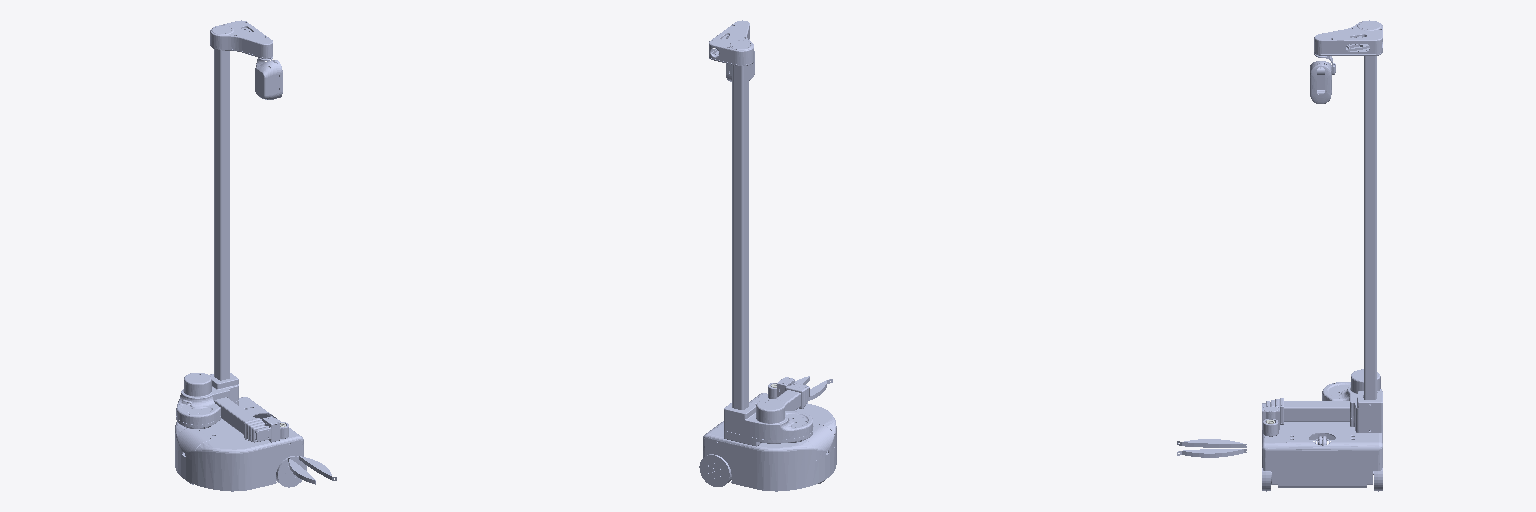
--- What the picture shows (computed from the rendered views, not written in the file) ---
Views: 3 orthographic renders of the robot side by side, from view 1: azimuth 30°, elevation 25°; view 2: azimuth 150°, elevation 25°; view 3: azimuth 270°, elevation 25°.
Robot: stretch_description — 45 links, 44 joints (7 revolute, 2 continuous, 5 prismatic, 30 fixed); root link base_link; default pose: all joints at 0.
Links seen in each view (by area): view 1: base_link, link_mast, link_lift, link_head, link_head_tilt, link_arm_l4, link_arm_l0, link_right_wheel; view 2: base_link, link_mast, link_lift, link_head, link_left_wheel; view 3: base_link, link_mast, link_lift, link_head, link_arm_l4, link_head_tilt.
Link boxes in pixels (left/top/right/bottom): base_link: left=175, top=397, right=303, bottom=491; link_mast: left=214, top=49, right=229, bottom=380; link_lift: left=176, top=373, right=238, bottom=428; link_head: left=210, top=20, right=272, bottom=58; link_head_tilt: left=255, top=60, right=282, bottom=99; link_arm_l4: left=214, top=397, right=261, bottom=439; link_arm_l0: left=255, top=416, right=288, bottom=442; link_right_wheel: left=276, top=456, right=306, bottom=487; base_link: left=703, top=393, right=836, bottom=491; link_mast: left=732, top=65, right=748, bottom=409; link_lift: left=724, top=399, right=812, bottom=446; link_head: left=709, top=20, right=753, bottom=65; link_left_wheel: left=699, top=454, right=731, bottom=486; base_link: left=1262, top=422, right=1382, bottom=487; link_mast: left=1364, top=37, right=1376, bottom=399; link_lift: left=1322, top=369, right=1382, bottom=432; link_head: left=1314, top=20, right=1382, bottom=55; link_arm_l4: left=1280, top=398, right=1349, bottom=424; link_head_tilt: left=1310, top=61, right=1331, bottom=103.
Size in the robot's own frame: 0.3303 by 0.5798 by 1.41 metres.
Meshes: 30 distinct files referenced, 22 mesh visuals loaded (22 binary STL); not drawn: 8 (reference not matched to a file when rendering).

URDF robot description (stretch_description):
<?xml version="1.0" ?>
<!-- =================================================================================== -->
<!-- |    This document was autogenerated by xacro from stretch_description_dex.xacro  | -->
<!-- |    EDITING THIS FILE BY HAND IS NOT RECOMMENDED                                 | -->
<!-- =================================================================================== -->
<robot name="stretch_description">
  <link name="link_wrist_yaw_bottom">
    <inertial>
      <origin rpy="0 0 0" xyz="-0.012839101377342 -0.0382787718640742 -0.0228400332263617"/>
      <mass value="0.0988906816399982"/>
      <inertia ixx="2.60067866573596E-05" ixy="-6.73176267521354E-06" ixz="-2.43476436723672E-06" iyy="5.99482946819923E-06" iyz="-3.39642410492401E-06" izz="2.56907114334732E-05"/>
    </inertial>
    <visual>
      <origin rpy="0 0 0" xyz="0 0 0"/>
      <geometry>
        <mesh filename="meshes/link_wrist_yaw_bottom.STL"/>
      </geometry>
      <material name="">
        <color rgba="0.792156862745098 0.819607843137255 0.933333333333333 1"/>
      </material>
    </visual>
    <collision>
      <origin rpy="0 0 0" xyz="0 0 0"/>
      <geometry>
        <mesh filename="meshes/link_wrist_yaw_bottom.STL"/>
      </geometry>
    </collision>
  </link>
  <joint name="joint_wrist_yaw_bottom" type="fixed">
    <origin rpy="-3.14159265358979 1.13367999021379E-14 1.57079632679489" xyz="0 0 0"/>
    <parent link="link_wrist_yaw"/>
    <child link="link_wrist_yaw_bottom"/>
    <axis xyz="0 0 0"/>
  </joint>
  <link name="link_wrist_pitch">
    <inertial>
      <origin rpy="0 0 0" xyz="-0.00310609611067142 -0.0150777141465843 0.0204734587925901"/>
      <mass value="0.0701267146295583"/>
      <inertia ixx="2.55965614980905E-06" ixy="-1.47551515167608E-06" ixz="-6.31436085977252E-08" iyy="3.43968637386282E-06" iyz="-4.17813567208843E-07" izz="4.53568668211393E-06"/>
    </inertial>
    <visual>
      <origin rpy="0 0 0" xyz="0 0 0"/>
      <geometry>
        <mesh filename="meshes/link_wrist_pitch.STL"/>
      </geometry>
      <material name="">
        <color rgba="0.792156862745098 0.819607843137255 0.933333333333333 1"/>
      </material>
    </visual>
    <collision>
      <origin rpy="0 0 0" xyz="0 0 0"/>
      <geometry>
        <mesh filename="meshes/link_wrist_pitch.STL"/>
      </geometry>
    </collision>
  </link>
  <joint name="joint_wrist_pitch" type="revolute">
    <origin rpy="1.5707963267949 -8.12895570882604E-15 -3.14159265358979" xyz="0 -0.0195500000000002 -0.0247499999999984"/>
    <parent link="link_wrist_yaw_bottom"/>
    <child link="link_wrist_pitch"/>
    <axis xyz="0 0 -1"/>
    <limit effort="100" lower="-1.57" upper="0.56" velocity="1.0"/>
  </joint>
  <link name="link_wrist_roll">
    <inertial>
      <origin rpy="0 0 0" xyz="9.63118473862323E-15 -6.38378239159465E-15 0.00768048802649798"/>
      <mass value="0.00585666394358811"/>
      <inertia ixx="2.55965614980905E-06" ixy="-1.47551515167608E-06" ixz="-6.31436085977252E-08" iyy="3.43968637386282E-06" iyz="-4.17813567208843E-07" izz="4.53568668211393E-06"/>
    </inertial>
    <visual>
      <origin rpy="0 0 0" xyz="0 0 0"/>
      <geometry>
        <mesh filename="meshes/link_wrist_roll.STL"/>
      </geometry>
      <material name="">
        <color rgba="0.792156862745098 0.819607843137255 0.933333333333333 1"/>
      </material>
    </visual>
    <collision>
      <origin rpy="0 0 0" xyz="0 0 0"/>
      <geometry>
        <mesh filename="meshes/link_wrist_roll.STL"/>
      </geometry>
    </collision>
  </link>
  <joint name="joint_wrist_roll" type="revolute">
    <origin rpy="3.14159265358979 1.5707963267949 0" xyz="-0.0188587444076125 -0.0239999999998942 0.01955"/>
    <parent link="link_wrist_pitch"/>
    <child link="link_wrist_roll"/>
    <axis xyz="0 0 1"/>
    <limit effort="100" lower="-3.14" upper="3.14" velocity="1.0"/>
  </joint>
  <link name="link_straight_gripper">
    <inertial>
      <origin rpy="0 0 0" xyz="0.00150764845432383 -0.00711581846201287 0.0399737901417758"/>
      <mass value="0.0496384234458284"/>
      <inertia ixx="5.61461154156397E-06" ixy="8.29518962984231E-07" ixz="-2.41382921888194E-06" iyy="1.11504692003467E-05" iyz="9.76174898123369E-07" izz="6.63803357903882E-06"/>
    </inertial>
    <visual>
      <origin rpy="0 0 0" xyz="0 0 0"/>
      <geometry>
        <mesh filename="meshes/link_straight_gripper.STL"/>
      </geometry>
      <material name="">
        <color rgba="0.792156862745098 0.819607843137255 0.933333333333333 1"/>
      </material>
    </visual>
    <collision>
      <origin rpy="0 0 0" xyz="0 0 0"/>
      <geometry>
        <mesh filename="meshes/link_straight_gripper.STL"/>
      </geometry>
    </collision>
  </link>
  <joint name="joint_straight_gripper" type="fixed">
    <origin rpy="3.54987407349455E-30 3.24021254484265E-20 -3.14159265358979" xyz="0 0 0.0155"/>
    <parent link="link_wrist_roll"/>
    <child link="link_straight_gripper"/>
    <axis xyz="0 0 0"/>
  </joint>
  <link name="link_gripper_finger_right">
    <inertial>
      <origin rpy="0 0 0" xyz="-0.094981 -0.0080152 -2.2204E-16"/>
      <mass value="0.047621"/>
      <inertia ixx="0.001" ixy="0" ixz="0" iyy="0.001" iyz="0" izz="0.001"/>
    </inertial>
    <visual>
      <origin rpy="0 0 0" xyz="0 0 0"/>
      <geometry>
        <mesh filename="meshes/link_gripper_finger_right.STL"/>
      </geometry>
      <material name="">
        <color rgba="0.79216 0.81961 0.93333 1"/>
      </material>
    </visual>
    <collision>
      <origin rpy="0 0 0" xyz="0 0 0"/>
      <geometry>
        <mesh filename="meshes/link_gripper_finger_right.STL"/>
      </geometry>
    </collision>
  </link>
  <joint name="joint_gripper_finger_right" type="revolute">
    <origin rpy="1.5708 1.5708 0" xyz="-0.018599 0.003 0.033689"/>
    <parent link="link_straight_gripper"/>
    <child link="link_gripper_finger_right"/>
    <axis xyz="0 0 1"/>
    <limit effort="100" lower="-0.6" upper="0.6" velocity="1.0"/>
  </joint>
  <link name="link_gripper_fingertip_right">
    <inertial>
      <origin rpy="0 0 0" xyz="2.83785970833783E-08 6.75131661687089E-09 0.00812578923434215"/>
      <mass value="0.00382160881468841"/>
      <inertia ixx="0.001" ixy="0" ixz="0" iyy="0.001" iyz="0" izz="0.001"/>
    </inertial>
    <visual>
      <origin rpy="0 0 0" xyz="0 0 0"/>
      <geometry>
        <mesh filename="meshes/link_gripper_fingertip_right.STL"/>
      </geometry>
      <material name="">
        <color rgba="0.250980392156863 0.250980392156863 0.250980392156863 1"/>
      </material>
    </visual>
    <collision>
      <origin rpy="0 0 0" xyz="0 0 0"/>
      <geometry>
        <mesh filename="meshes/link_gripper_fingertip_right.STL"/>
      </geometry>
    </collision>
  </link>
  <joint name="joint_gripper_fingertip_right" type="fixed">
    <origin rpy="-1.57079632679483 -3.43320051448326E-14 0.540456056432235" xyz="-0.190596948563868 -0.015 0"/>
    <parent link="link_gripper_finger_right"/>
    <child link="link_gripper_fingertip_right"/>
    <axis xyz="0 0 0"/>
  </joint>
  <link name="link_gripper_finger_left">
    <inertial>
      <origin rpy="0 0 0" xyz="0.0949811095686165 -0.00801522758203194 1.38777878078145E-15"/>
      <mass value="0.0476207785199479"/>
      <inertia ixx="0.001" ixy="0" ixz="0" iyy="0.001" iyz="0" izz="0.001"/>
    </inertial>
    <visual>
      <origin rpy="3.141592653589793 0 0" xyz="0 0 0"/>
      <geometry>
        <mesh filename="meshes/link_gripper_finger_left.STL"/>
      </geometry>
      <material name="">
        <color rgba="0.792156862745098 0.819607843137255 0.933333333333333 1"/>
      </material>
    </visual>
    <collision>
      <origin rpy="1.5707963267948966 0 0" xyz="0 0 0"/>
      <geometry>
        <mesh filename="meshes/link_gripper_finger_left.STL"/>
      </geometry>
    </collision>
  </link>
  <joint name="joint_gripper_finger_left" type="revolute">
    <origin rpy="1.5708 -1.5708 0" xyz="0.018599 0.003 0.033689"/>
    <parent link="link_straight_gripper"/>
    <child link="link_gripper_finger_left"/>
    <axis xyz="0 0 -1"/>
    <limit effort="100" lower="-0.6" upper="0.6" velocity="1.0"/>
  </joint>
  <link name="link_gripper_fingertip_left">
    <inertial>
      <origin rpy="0 0 0" xyz="-2.59496317767116E-08 -6.65612598371723E-09 0.00812579036862837"/>
      <mass value="0.00382160686584851"/>
      <inertia ixx="0.001" ixy="0" ixz="0" iyy="0.001" iyz="0" izz="0.001"/>
    </inertial>
    <visual>
      <origin rpy="0 0 0" xyz="0 0 0"/>
      <geometry>
        <mesh filename="meshes/link_gripper_fingertip_left.STL"/>
      </geometry>
      <material name="">
        <color rgba="0.250980392156863 0.250980392156863 0.250980392156863 1"/>
      </material>
    </visual>
    <collision>
      <origin rpy="0 0 0" xyz="0 0 0"/>
      <geometry>
        <mesh filename="meshes/link_gripper_fingertip_left.STL"/>
      </geometry>
    </collision>
  </link>
  <joint name="joint_gripper_fingertip_left" type="fixed">
    <origin rpy="1.57079632679496 4.51275387511463E-14 2.60113659715756" xyz="0.190596948563868 -0.015 0"/>
    <parent link="link_gripper_finger_left"/>
    <child link="link_gripper_fingertip_left"/>
    <axis xyz="0 0 0"/>
  </joint>
  <link name="link_grasp_center">
  </link>
  <joint name="joint_grasp_center" type="fixed">
    <origin rpy="-1.5707963267949 -1.5707963267949 0" xyz="0 0 0.23"/>
    <parent link="link_straight_gripper"/>
    <child link="link_grasp_center"/>
  </joint>
  <!--<xacro:include filename="stretch_gripper.xacro" /> -->
  <!--<xacro:include filename="stretch_gripper_with_puller.xacro" />-->
  <!--<xacro:include filename="stretch_dry_erase_marker.xacro" />-->
  <link name="base_link">
    <inertial>
      <origin rpy="0 0 0" xyz="-0.11587 0.0019426 0.093621"/>
      <mass value="1.1912"/>
      <inertia ixx="0.0034667" ixy="-5.0568E-06" ixz="0.00042861" iyy="0.0052744" iyz="-5.766E-05" izz="0.0047945"/>
    </inertial>
    <visual>
      <origin rpy="0 0 0" xyz="0 0 0"/>
      <geometry>
        <mesh filename="meshes/base_link.STL"/>
      </geometry>
      <material name="">
        <color rgba="0.79216 0.81961 0.93333 1"/>
      </material>
    </visual>
    <collision>
      <origin rpy="0 0 0" xyz="0 0 0"/>
      <geometry>
        <mesh filename="meshes/base_link.STL"/>
      </geometry>
    </collision>
  </link>
  <link name="link_right_wheel">
    <inertial>
      <origin rpy="0 0 0" xyz="1.1719E-11 2.0783E-11 0.037544"/>
      <mass value="0.0042721"/>
      <inertia ixx="0.001" ixy="0" ixz="0" iyy="0.001" iyz="0" izz="0.001"/>
    </inertial>
    <visual>
      <origin rpy="0 0 0" xyz="0 0 0"/>
      <geometry>
        <mesh filename="meshes/link_right_wheel.STL"/>
      </geometry>
      <material name="">
        <color rgba="0.79216 0.81961 0.93333 1"/>
      </material>
    </visual>
    <collision>
      <origin rpy="0 0 0" xyz="0 0 0"/>
      <geometry>
        <mesh filename="meshes/link_right_wheel.STL"/>
      </geometry>
    </collision>
  </link>
  <joint name="joint_right_wheel" type="continuous">
    <origin rpy="-1.5708 1.2717E-16 4.8006E-17" xyz="0 -0.17035 0.0508"/>
    <parent link="base_link"/>
    <child link="link_right_wheel"/>
    <axis xyz="0 0 1"/>
    <dynamics damping="21.75" friction="10.48" spring_reference="0" spring_stiffness="0"/>
  </joint>
  <link name="link_left_wheel">
    <inertial>
      <origin rpy="0 0 0" xyz="-2.0783E-11 -1.1719E-11 -0.037544"/>
      <mass value="0.0042721"/>
      <inertia ixx="0.001" ixy="0" ixz="0" iyy="0.001" iyz="0" izz="0.001"/>
    </inertial>
    <visual>
      <origin rpy="0 0 0" xyz="0 0 0"/>
      <geometry>
        <mesh filename="meshes/link_left_wheel.STL"/>
      </geometry>
      <material name="">
        <color rgba="0.79216 0.81961 0.93333 1"/>
      </material>
    </visual>
    <collision>
      <origin rpy="0 0 0" xyz="0 0 0"/>
      <geometry>
        <mesh filename="meshes/link_left_wheel.STL"/>
      </geometry>
    </collision>
  </link>
  <joint name="joint_left_wheel" type="continuous">
    <origin rpy="-1.5708 2.6317E-16 -8.2057E-19" xyz="0 0.17035 0.0508"/>
    <parent link="base_link"/>
    <child link="link_left_wheel"/>
    <axis xyz="0 0 1"/>
    <dynamics damping="21.75" friction="10.48" spring_reference="0" spring_stiffness="0"/>
  </joint>
  <link name="caster_link">
    <collision>
      <geometry>
        <sphere radius="0.032"/>
      </geometry>
      <origin rpy="0 0 0" xyz="0 0 0"/>
      <surface>
        <friction>
          <ode>
            <mu>0</mu>
            <mu2>0</mu2>
            <slip1>1.0</slip1>
            <slip2>1.0</slip2>
          </ode>
        </friction>
      </surface>
    </collision>
    <visual>
      <origin rpy="0 0 0" xyz="0 0 0"/>
      <geometry>
        <mesh filename="meshes/omni_wheel_m.STL"/>
      </geometry>
      <material name="">
        <color rgba="0.792156862745098 0.819607843137255 0.933333333333333 1"/>
      </material>
    </visual>
    <inertial>
      <mass value="0.01"/>
      <origin xyz="0 0 0"/>
      <inertia ixx="0.001" ixy="0" ixz="0" iyy="0.001" iyz="0" izz="0.001"/>
    </inertial>
  </link>
  <joint name="caster_joint" type="fixed">
    <parent link="base_link"/>
    <child link="caster_link"/>
    <origin rpy="-1.5707963267948966 0 0" xyz="-0.245 0.0 0.032"/>
    <axis xyz="0 0 1"/>
  </joint>
  <link name="link_mast">
    <inertial>
      <origin rpy="0 0 0" xyz="2.0817E-17 0.7075 -2.7756E-17"/>
      <mass value="1.8285"/>
      <inertia ixx="0.0709854511954588" ixy="-0.00433428742758457" ixz="-0.000186110788697573" iyy="0.000437922053342648" iyz="-0.00288788257713431" izz="0.071104808501661"/>
    </inertial>
    <visual>
      <origin rpy="0 0 0" xyz="0 0 0"/>
      <geometry>
        <mesh filename="meshes/link_mast.STL"/>
      </geometry>
      <material name="">
        <color rgba="0.79216 0.81961 0.93333 1"/>
      </material>
    </visual>
    <collision>
      <origin rpy="0 0 0" xyz="0 0 0"/>
      <geometry>
        <mesh filename="meshes/link_mast.STL"/>
      </geometry>
    </collision>
  </link>
  <joint name="joint_mast" type="fixed">
    <origin rpy="1.5708 0 4.8006E-17" xyz="-0.067 0.135 0.0284"/>
    <parent link="base_link"/>
    <child link="link_mast"/>
    <axis xyz="0 0 0"/>
  </joint>
  <link name="link_lift">
    <inertial>
      <origin rpy="0 0 0" xyz="-0.031727 0.038403 0.013361"/>
      <mass value="0.27218"/>
      <inertia ixx="0.00052571" ixy="0.00014899" ixz="-1.9258E-05" iyy="0.00030679" iyz="-6.2451E-06" izz="0.00037324"/>
    </inertial>
    <visual>
      <origin rpy="0 0 0" xyz="0 0 0"/>
      <geometry>
        <mesh filename="meshes/link_lift.STL"/>
      </geometry>
      <material name="">
        <color rgba="0.79216 0.81961 0.93333 1"/>
      </material>
    </visual>
    <collision>
      <origin rpy="0 0 0" xyz="0 0 0"/>
      <geometry>
        <mesh filename="meshes/link_lift.STL"/>
      </geometry>
    </collision>
  </link>
  <joint name="joint_lift" type="prismatic">
    <origin rpy="-1.5708 1.5708 0" xyz="-0.037385 0.1666 0"/>
    <parent link="link_mast"/>
    <child link="link_lift"/>
    <axis xyz="0 0 1"/>
    <!-- for now: hand copied range_m: from lift: from ~/repos/stretch_fleet/stretch-re1-1001/stretch_re1_factory_params.yaml -->
    <!--<limit effort="100" lower="0.0" upper="1.095" velocity="1.0"/>-->
    <!-- copied value did not reach the top of mesh model with GUI sliders and RViz -->
    <limit effort="100" lower="0.0" upper="1.1" velocity="1.0"/>
  </joint>
  <link name="link_arm_l4">
    <inertial>
      <origin rpy="0 0 0" xyz="-1.0146E-06 -1.9719E-05 -0.094738"/>
      <mass value="0.068095"/>
      <inertia ixx="0.0001256" ixy="-5.6914E-12" ixz="6.0647E-09" iyy="0.0001256" iyz="1.1787E-07" izz="1.1091E-10"/>
    </inertial>
    <visual>
      <origin rpy="0 0 0" xyz="0 0 0"/>
      <geometry>
        <mesh filename="meshes/link_arm_l4.STL"/>
      </geometry>
      <material name="">
        <color rgba="0.79216 0.81961 0.93333 1"/>
      </material>
    </visual>
    <collision>
      <origin rpy="0 0 0" xyz="0 0 0"/>
      <geometry>
        <mesh filename="meshes/link_arm_l4.STL"/>
      </geometry>
    </collision>
  </link>
  <joint name="joint_arm_l4" type="fixed">
    <origin rpy="1.5708 2.4721E-15 -1.5708" xyz="-0.2547 0 0"/>
    <parent link="link_lift"/>
    <child link="link_arm_l4"/>
    <axis xyz="0 0 0"/>
  </joint>
  <link name="link_arm_l3">
    <inertial>
      <origin rpy="0 0 0" xyz="-5.13853606326845E-07 -1.99844969271112E-05 -0.0971104963726614"/>
      <mass value="0.0628927381893134"/>
      <inertia ixx="0.001" ixy="0" ixz="0" iyy="0.001" iyz="0" izz="0.001"/>
    </inertial>
    <visual>
      <origin rpy="0 0 0" xyz="0 0 0"/>
      <geometry>
        <mesh filename="meshes/link_arm_l3.STL"/>
      </geometry>
      <material name="">
        <color rgba="0.792156862745098 0.819607843137255 0.933333333333333 1"/>
      </material>
    </visual>
    <collision>
      <origin rpy="0 0 0" xyz="0 0 0"/>
      <geometry>
        <mesh filename="meshes/link_arm_l3.STL"/>
      </geometry>
    </collision>
  </link>
  <joint name="joint_arm_l3" type="prismatic">
    <origin rpy="7.68831233799385E-30 2.36716479416092E-30 2.29652732251143E-17" xyz="0 0 0.013"/>
    <parent link="link_arm_l4"/>
    <child link="link_arm_l3"/>
    <axis xyz="0 0 1"/>
    <!-- 0.13 = 0.52/4-->
    <limit effort="100" lower="0.0" upper="0.13" velocity="1.0"/>
  </joint>
  <link name="link_arm_l2">
    <inertial>
      <origin rpy="0 0 0" xyz="-5.17421949435687E-07 -2.02045301450349E-05 -0.0968815475684904"/>
      <mass value="0.0571386353275368"/>
      <inertia ixx="0.001" ixy="0" ixz="0" iyy="0.001" iyz="0" izz="0.001"/>
    </inertial>
    <visual>
      <origin rpy="0 0 0" xyz="0 0 0"/>
      <geometry>
        <mesh filename="meshes/link_arm_l2.STL"/>
      </geometry>
      <material name="">
        <color rgba="0.792156862745098 0.819607843137255 0.933333333333333 1"/>
      </material>
    </visual>
    <collision>
      <origin rpy="0 0 0" xyz="0 0 0"/>
      <geometry>
        <mesh filename="meshes/link_arm_l2.STL"/>
      </geometry>
    </collision>
  </link>
  <joint name="joint_arm_l2" type="prismatic">
    <origin rpy="0 1.57655765344625E-30 -1.66533453693773E-16" xyz="0 0 0.013"/>
    <parent link="link_arm_l3"/>
    <child link="link_arm_l2"/>
    <axis xyz="0 0 1"/>
    <!-- 0.13 = 0.52/4-->
    <limit effort="100" lower="0.0" upper="0.13" velocity="1.0"/>
  </joint>
  <link name="link_arm_l1">
    <inertial>
      <origin rpy="0 0 0" xyz="-5.257E-07 -2.0482E-05 -0.096543"/>
      <mass value="0.051382"/>
      <inertia ixx="0.001" ixy="0" ixz="0" iyy="0.001" iyz="0" izz="0.001"/>
    </inertial>
    <visual>
      <origin rpy="0 0 0" xyz="0 0 0"/>
      <geometry>
        <mesh filename="meshes/link_arm_l1.STL"/>
      </geometry>
      <material name="">
        <color rgba="0.79216 0.81961 0.93333 1"/>
      </material>
    </visual>
    <collision>
      <origin rpy="0 0 0" xyz="0 0 0"/>
      <geometry>
        <mesh filename="meshes/link_arm_l1.STL"/>
      </geometry>
    </collision>
  </link>
  <joint name="joint_arm_l1" type="prismatic">
    <origin rpy="-7.63746778746202E-30 -7.88860905221012E-31 1.11022302462516E-16" xyz="0 0 0.0129999999999981"/>
    <parent link="link_arm_l2"/>
    <child link="link_arm_l1"/>
    <axis xyz="0 0 1"/>
    <!-- 0.13 = 0.52/4-->
    <limit effort="100" lower="0.0" upper="0.13" velocity="1.0"/>
  </joint>
  <link name="link_arm_l0">
    <inertial>
      <origin rpy="0 0 0" xyz="0.0270582141286185 -0.00189876414654466 -0.0377809018481181"/>
      <mass value="0.085003260946398"/>
      <inertia ixx="0.001" ixy="0" ixz="0" iyy="0.001" iyz="0" izz="0.001"/>
    </inertial>
    <visual>
      <origin rpy="0 0 0" xyz="0 0 0"/>
      <geometry>
        <mesh filename="meshes/link_arm_l0.STL"/>
      </geometry>
      <material name="">
        <color rgba="0.792156862745098 0.819607843137255 0.933333333333333 1"/>
      </material>
    </visual>
    <collision>
      <origin rpy="0 0 0" xyz="0 0 0"/>
      <geometry>
        <mesh filename="meshes/link_arm_l0.STL"/>
      </geometry>
    </collision>
  </link>
  <joint name="joint_arm_l0" type="prismatic">
    <origin rpy="7.63746778746202E-30 -3.80121128864402E-15 2.62707547767438E-15" xyz="0 0 -0.0137499999991968"/>
    <parent link="link_arm_l1"/>
    <child link="link_arm_l0"/>
    <axis xyz="0 0 1"/>
    <!-- 0.13 = 0.52/4-->
    <limit effort="100" lower="0.0" upper="0.13" velocity="1.0"/>
  </joint>
  <link name="link_wrist_yaw">
    <inertial>
      <origin rpy="0 0 0" xyz="2.20122392535771E-11 2.9317167880849E-05 -0.018966592644729"/>
      <mass value="0.0404746907425003"/>
      <inertia ixx="0.001" ixy="0" ixz="0" iyy="0.001" iyz="0" izz="0.001"/>
    </inertial>
    <visual>
      <origin rpy="0 0 0" xyz="0 0 0"/>
      <geometry>
        <mesh filename="meshes/link_wrist_yaw.STL"/>
      </geometry>
      <material name="">
        <color rgba="0.898039215686275 0.917647058823529 0.929411764705882 1"/>
      </material>
    </visual>
    <collision>
      <origin rpy="0 0 0" xyz="0 0 0"/>
      <geometry>
        <mesh filename="meshes/link_wrist_yaw.STL"/>
      </geometry>
    </collision>
  </link>
  <joint name="joint_wrist_yaw" type="revolute">
    <origin rpy="1.5708 4.2595E-14 2.6415E-15" xyz="0.0830000000000654 -0.0307500000000129 0"/>
    <parent link="link_arm_l0"/>
    <child link="link_wrist_yaw"/>
    <axis xyz="0 0 -1"/>
    <!--
      stowed to front ~225 deg: 3.15159 x 1.25 = 3.9395
      using 4.0
      stowed to back ~100 deg:  100 / 180 x 3.14159 = 1.7453
      using -1.75
    -->
    <limit effort="100" lower="-1.75" upper="4.0" velocity="1.0"/>
  </joint>
  <link name="link_head">
    <inertial>
      <origin rpy="0 0 0" xyz="0.0406850995527703 0.0396956343318414 0.0226500246461012"/>
      <mass value="0.133027236718691"/>
      <inertia ixx="0.001" ixy="0" ixz="0" iyy="0.001" iyz="0" izz="0.001"/>
    </inertial>
    <visual>
      <origin rpy="0 0 0" xyz="0 0 0"/>
      <geometry>
        <mesh filename="meshes/link_head.STL"/>
      </geometry>
      <material name="">
        <color rgba="0.792156862745098 0.819607843137255 0.933333333333333 1"/>
      </material>
    </visual>
    <collision>
      <origin rpy="0 0 0" xyz="0 0 0"/>
      <geometry>
        <mesh filename="meshes/link_head.STL"/>
      </geometry>
    </collision>
  </link>
  <joint name="joint_head" type="fixed">
    <origin rpy="1.5707963267949 -1.5707963267949 3.1416" xyz="0 1.33 0"/>
    <parent link="link_mast"/>
    <child link="link_head"/>
    <axis xyz="0 0 0"/>
  </joint>
  <link name="link_head_pan">
    <inertial>
      <origin rpy="0 0 0" xyz="-0.000326562615178591 0.00850012613776489 0.000130487222982367"/>
      <mass value="0.0273764496535409"/>
      <inertia ixx="0.001" ixy="0" ixz="0" iyy="0.001" iyz="0" izz="0.001"/>
    </inertial>
    <visual>
      <origin rpy="0 0 0" xyz="0 0 0"/>
      <geometry>
        <mesh filename="meshes/link_head_pan.STL"/>
      </geometry>
      <material name="">
        <color rgba="0.792156862745098 0.819607843137255 0.933333333333333 1"/>
      </material>
    </visual>
    <collision>
      <origin rpy="0 0 0" xyz="0 0 0"/>
      <geometry>
        <mesh filename="meshes/link_head_pan.STL"/>
      </geometry>
    </collision>
  </link>
  <joint name="joint_head_pan" type="revolute">
    <origin rpy="0 0 1.5707963267949" xyz="0.135 0.0731000000000001 -0.00319621125547975"/>
    <parent link="link_head"/>
    <child link="link_head_pan"/>
    <axis xyz="0 0 1"/>
    <!-- unconstrained range for now -->
    <limit effort="100" lower="-3.9" upper="1.5" velocity="1.0"/>
  </joint>
  <link name="link_head_tilt">
    <inertial>
      <origin rpy="0 0 0" xyz="0.00704566394917504 -0.0212256210929691 0.0302058990060359"/>
      <mass value="0.090217113313934"/>
      <inertia ixx="0.001" ixy="0" ixz="0" iyy="0.001" iyz="0" izz="0.001"/>
    </inertial>
    <visual>
      <origin rpy="0 0 0" xyz="0 0 0"/>
      <geometry>
        <mesh filename="meshes/link_head_tilt.STL"/>
      </geometry>
      <material name="">
        <color rgba="0.792156862745098 0.819607843137255 0.933333333333333 1"/>
      </material>
    </visual>
    <collision>
      <origin rpy="0 0 0" xyz="0 0 0"/>
      <geometry>
        <mesh filename="meshes/link_head_tilt.STL"/>
      </geometry>
    </collision>
  </link>
  <joint name="joint_head_tilt" type="revolute">
    <origin rpy="1.5707963267949 3.36459255518345E-15 -8.42914893687103E-17" xyz="-0.00130000001785262 0.0277624999926072 -0.0533107920897029"/>
    <parent link="link_head_pan"/>
    <child link="link_head_tilt"/>
    <axis xyz="0 0 1"/>
    <!-- unconstrained range for now -->
    <limit effort="100" lower="-1.53" upper="0.79" velocity="1.0"/>
  </joint>
  <link name="link_aruco_right_base">
    <inertial>
      <origin rpy="0 0 0" xyz="1.3878E-17 0 -0.000125"/>
      <mass value="3.59999999990368E-06"/>
      <inertia ixx="0" ixy="0" ixz="0" iyy="0" iyz="0" izz="0"/>
    </inertial>
    <visual>
      <origin rpy="0 0 0" xyz="0 0 0"/>
      <geometry>
        <mesh filename="meshes/link_aruco_right_base.STL"/>
      </geometry>
      <material name="">
        <color rgba="0.792156862745098 0.819607843137255 0.933333333333333 1"/>
      </material>
    </visual>
    <collision>
      <origin rpy="0 0 0" xyz="0 0 0"/>
      <geometry>
        <mesh filename="meshes/link_aruco_right_base.STL"/>
      </geometry>
    </collision>
  </link>
  <joint name="joint_aruco_right_base" type="fixed">
    <origin rpy="0 0 -1.5707963267949" xyz="-0.0015028 -0.1304972 0.1597482"/>
    <parent link="base_link"/>
    <child link="link_aruco_right_base"/>
    <axis xyz="0 0 0"/>
  </joint>
  <link name="link_aruco_left_base">
    <inertial>
      <origin rpy="0 0 0" xyz="2.7756E-17 0 -0.000125"/>
      <mass value="3.59999999990368E-06"/>
      <inertia ixx="0" ixy="0" ixz="0" iyy="0" iyz="0" izz="0"/>
    </inertial>
    <visual>
      <origin rpy="0 0 0" xyz="0 0 0"/>
      <geometry>
        <mesh filename="meshes/link_aruco_left_base.STL"/>
      </geometry>
      <material name="">
        <color rgba="0.792156862745098 0.819607843137255 0.933333333333333 1"/>
      </material>
    </visual>
    <collision>
      <origin rpy="0 0 0" xyz="0 0 0"/>
      <geometry>
        <mesh filename="meshes/link_aruco_left_base.STL"/>
      </geometry>
    </collision>
  </link>
  <joint name="joint_aruco_left_base" type="fixed">
    <origin rpy="0 0 -1.5707963267949" xyz="-0.00500000000000014 0.1304972 0.1597482"/>
    <parent link="base_link"/>
    <child link="link_aruco_left_base"/>
    <axis xyz="0 0 0"/>
  </joint>
  <link name="link_aruco_shoulder">
    <inertial>
      <origin rpy="0 0 0" xyz="-2.77555756156289E-17 2.56739074444567E-16 -0.000125000000000042"/>
      <mass value="0"/>
      <inertia ixx="0" ixy="0" ixz="0" iyy="0" iyz="0" izz="0"/>
    </inertial>
    <visual>
      <origin rpy="0 0 0" xyz="0 0 0"/>
      <geometry>
        <mesh filename="meshes/link_aruco_shoulder.STL"/>
      </geometry>
      <material name="">
        <color rgba="0.792156862745098 0.819607843137255 0.933333333333333 1"/>
      </material>
    </visual>
    <collision>
      <origin rpy="0 0 0" xyz="0 0 0"/>
      <geometry>
        <mesh filename="meshes/link_aruco_shoulder.STL"/>
      </geometry>
    </collision>
  </link>
  <joint name="joint_aruco_shoulder" type="fixed">
    <origin rpy="-1.53998860117704E-29 3.55962409571165E-15 0.0" xyz="-0.0133768876375287 0.0558540528812078 0.0861368272417975"/>
    <parent link="link_lift"/>
    <child link="link_aruco_shoulder"/>
    <axis xyz="0 0 0"/>
  </joint>
  <link name="link_aruco_top_wrist">
    <inertial>
      <origin rpy="0 0 0" xyz="-1.3531E-15 -3.4972E-15 -0.000125"/>
      <mass value="0"/>
      <inertia ixx="0" ixy="0" ixz="0" iyy="0" iyz="0" izz="0"/>
    </inertial>
    <visual>
      <origin rpy="0 0 0" xyz="0 0 0"/>
      <geometry>
        <mesh filename="meshes/link_aruco_top_wrist.STL"/>
      </geometry>
      <material name="">
        <color rgba="0.792156862745098 0.819607843137255 0.933333333333333 1"/>
      </material>
    </visual>
    <collision>
      <origin rpy="0 0 0" xyz="0 0 0"/>
      <geometry>
        <mesh filename="meshes/link_aruco_top_wrist.STL"/>
      </geometry>
    </collision>
  </link>
  <joint name="joint_aruco_top_wrist" type="fixed">
    <origin rpy="1.5707963267949 -8.03728587323464E-15 3.14159265358979" xyz="0.0472500000000019 0.0292850000000015 0"/>
    <parent link="link_arm_l0"/>
    <child link="link_aruco_top_wrist"/>
    <axis xyz="0 0 0"/>
  </joint>
  <link name="link_aruco_inner_wrist">
    <inertial>
      <origin rpy="0 0 0" xyz="8.32667268468867E-17 1.77635683940025E-15 -0.000125000000000264"/>
      <mass value="0"/>
      <inertia ixx="0" ixy="0" ixz="0" iyy="0" iyz="0" izz="0"/>
    </inertial>
    <visual>
      <origin rpy="0 0 0" xyz="0 0 0"/>
      <geometry>
        <mesh filename="meshes/link_aruco_inner_wrist.STL"/>
      </geometry>
      <material name="">
        <color rgba="0.792156862745098 0.819607843137255 0.933333333333333 1"/>
      </material>
    </visual>
    <collision>
      <origin rpy="0 0 0" xyz="0 0 0"/>
      <geometry>
        <mesh filename="meshes/link_aruco_inner_wrist.STL"/>
      </geometry>
    </collision>
  </link>
  <joint name="joint_aruco_inner_wrist" type="fixed">
    <origin rpy="3.14159265358979 4.23377442363088E-14 3.14159265358979" xyz="0.0472499999999947 -0.0119000000000034 -0.0272499999991938"/>
    <parent link="link_arm_l0"/>
    <child link="link_aruco_inner_wrist"/>
    <axis xyz="0 0 0"/>
  </joint>
  <material name="aluminum">
    <color rgba="0.5 0.5 0.5 1"/>
  </material>
  <material name="plastic">
    <color rgba="0.1 0.1 0.1 1"/>
  </material>
  <!-- camera body, with origin at bottom screw mount -->
  <joint name="camera_joint" type="fixed">
    <origin rpy="0.0 0.0 0.0" xyz="0.03 -0.0122 0.0182"/>
    <parent link="link_head_tilt"/>
    <child link="camera_bottom_screw_frame"/>
  </joint>
  <link name="camera_bottom_screw_frame"/>
  <joint name="camera_link_joint" type="fixed">
    <origin rpy="0 0 0" xyz="0.010600000000000002 0.0175 0.0125"/>
    <parent link="camera_bottom_screw_frame"/>
    <child link="camera_link"/>
  </joint>
  <link name="camera_link">
    <collision>
      <origin rpy="0 0 0" xyz="0 -0.0175 0"/>
      <geometry>
        <box size="0.02505 0.09 0.025"/>
      </geometry>
    </collision>
    <inertial>
      <!-- The following are not reliable values, and should not be used for modeling -->
      <mass value="0.072"/>
      <origin xyz="0 0 0"/>
      <inertia ixx="0.003881243" ixy="0.0" ixz="0.0" iyy="0.000498940" iyz="0.0" izz="0.003879257"/>
    </inertial>
  </link>
  <!-- camera depth joints and links -->
  <joint name="camera_depth_joint" type="fixed">
    <origin rpy="0 0 0" xyz="0 0 0"/>
    <parent link="camera_link"/>
    <child link="camera_depth_frame"/>
  </joint>
  <link name="camera_depth_frame"/>
  <joint name="camera_depth_optical_joint" type="fixed">
    <origin rpy="-1.5707963267948966 0 -1.5707963267948966" xyz="0 0 0"/>
    <parent link="camera_depth_frame"/>
    <child link="camera_depth_optical_frame"/>
  </joint>
  <link name="camera_depth_optical_frame"/>
  <!-- camera left IR joints and links -->
  <joint name="camera_infra1_joint" type="fixed">
    <origin rpy="0 0 0" xyz="0 0.0 0"/>
    <parent link="camera_link"/>
    <child link="camera_infra1_frame"/>
  </joint>
  <link name="camera_infra1_frame"/>
  <joint name="camera_infra1_optical_joint" type="fixed">
    <origin rpy="-1.5707963267948966 0 -1.5707963267948966" xyz="0 0 0"/>
    <parent link="camera_infra1_frame"/>
    <child link="camera_infra1_optical_frame"/>
  </joint>
  <link name="camera_infra1_optical_frame"/>
  <!-- camera right IR joints and links -->
  <joint name="camera_infra2_joint" type="fixed">
    <origin rpy="0 0 0" xyz="0 -0.05 0"/>
    <parent link="camera_link"/>
    <child link="camera_infra2_frame"/>
  </joint>
  <link name="camera_infra2_frame"/>
  <joint name="camera_infra2_optical_joint" type="fixed">
    <origin rpy="-1.5707963267948966 0 -1.5707963267948966" xyz="0 0 0"/>
    <parent link="camera_infra2_frame"/>
    <child link="camera_infra2_optical_frame"/>
  </joint>
  <link name="camera_infra2_optical_frame"/>
  <!-- camera color joints and links -->
  <joint name="camera_color_joint" type="fixed">
    <origin rpy="0 0 0" xyz="0 0.015 0"/>
    <parent link="camera_link"/>
    <child link="camera_color_frame"/>
  </joint>
  <link name="camera_color_frame"/>
  <joint name="camera_color_optical_joint" type="fixed">
    <origin rpy="-1.5707963267948966 0 -1.5707963267948966" xyz="0 0 0"/>
    <parent link="camera_color_frame"/>
    <child link="camera_color_optical_frame"/>
  </joint>
  <link name="camera_color_optical_frame"/>
  <link name="camera_accel_frame"/>
  <link name="camera_accel_optical_frame"/>
  <link name="camera_gyro_frame"/>
  <link name="camera_gyro_optical_frame"/>
  <joint name="camera_accel_joint" type="fixed">
    <origin rpy="0 0 0" xyz="-0.01174 -0.00552 0.0051"/>
    <parent link="camera_link"/>
    <child link="camera_accel_frame"/>
  </joint>
  <joint name="camera_accel_optical_joint" type="fixed">
    <origin rpy="-1.5707963267948966 0 -1.5707963267948966" xyz="0 0 0"/>
    <parent link="camera_accel_frame"/>
    <child link="camera_accel_optical_frame"/>
  </joint>
  <joint name="camera_gyro_joint" type="fixed">
    <origin rpy="0 0 0" xyz="-0.01174 -0.00552 0.0051"/>
    <parent link="camera_link"/>
    <child link="camera_gyro_frame"/>
  </joint>
  <joint name="camera_gyro_optical_joint" type="fixed">
    <origin rpy="-1.5707963267948966 0 -1.5707963267948966" xyz="0 0 0"/>
    <parent link="camera_gyro_frame"/>
    <child link="camera_gyro_optical_frame"/>
  </joint>
  <link name="laser">
    <inertial>
      <origin rpy="0 0 0" xyz="0 0 -0.000755956127492408"/>
      <mass value="0.0749979022894495"/>
      <inertia ixx="0" ixy="0" ixz="0" iyy="0" iyz="0" izz="0"/>
    </inertial>
    <visual>
      <origin rpy="0 0 0" xyz="0 0 0"/>
      <geometry>
        <mesh filename="meshes/laser.STL"/>
      </geometry>
      <material name="">
        <color rgba="0.250980392156863 0.250980392156863 0.250980392156863 1"/>
      </material>
    </visual>
    <collision>
      <origin rpy="0 0 0" xyz="0 0 0"/>
      <geometry>
        <mesh filename="meshes/laser.STL"/>
      </geometry>
    </collision>
  </link>
  <joint name="joint_laser" type="fixed">
    <origin rpy="0 0 3.1416" xyz="0.004 0 0.1664"/>
    <parent link="base_link"/>
    <child link="laser"/>
    <axis xyz="0 0 0"/>
  </joint>
  <link name="respeaker_base">
    <inertial>
      <origin rpy="0 0 0" xyz="-0.003809 -0.0023075 -0.012854"/>
      <mass value="0.015643"/>
      <inertia ixx="1.0075E-06" ixy="-5.4396E-08" ixz="-2.8652E-07" iyy="1.0569E-06" iyz="-1.8463E-07" izz="1.1947E-07"/>
    </inertial>
    <visual>
      <origin rpy="0 0 0" xyz="0 0 0"/>
      <geometry>
        <mesh filename="meshes/respeaker_base.STL"/>
      </geometry>
      <material name="">
        <color rgba="0.79216 0.81961 0.93333 1"/>
      </material>
    </visual>
    <collision>
      <origin rpy="0 0 0" xyz="0 0 0"/>
      <geometry>
        <mesh filename="meshes/respeaker_base.STL"/>
      </geometry>
    </collision>
  </link>
  <joint name="joint_respeaker" type="fixed">
    <origin rpy="-1.5707963267949 -0.698131700797725 4.93295812652799E-16" xyz="0 1.37236408874452 0.00303065898329655"/>
    <parent link="link_mast"/>
    <child link="respeaker_base"/>
    <axis xyz="0 0 0"/>
  </joint>
</robot>
